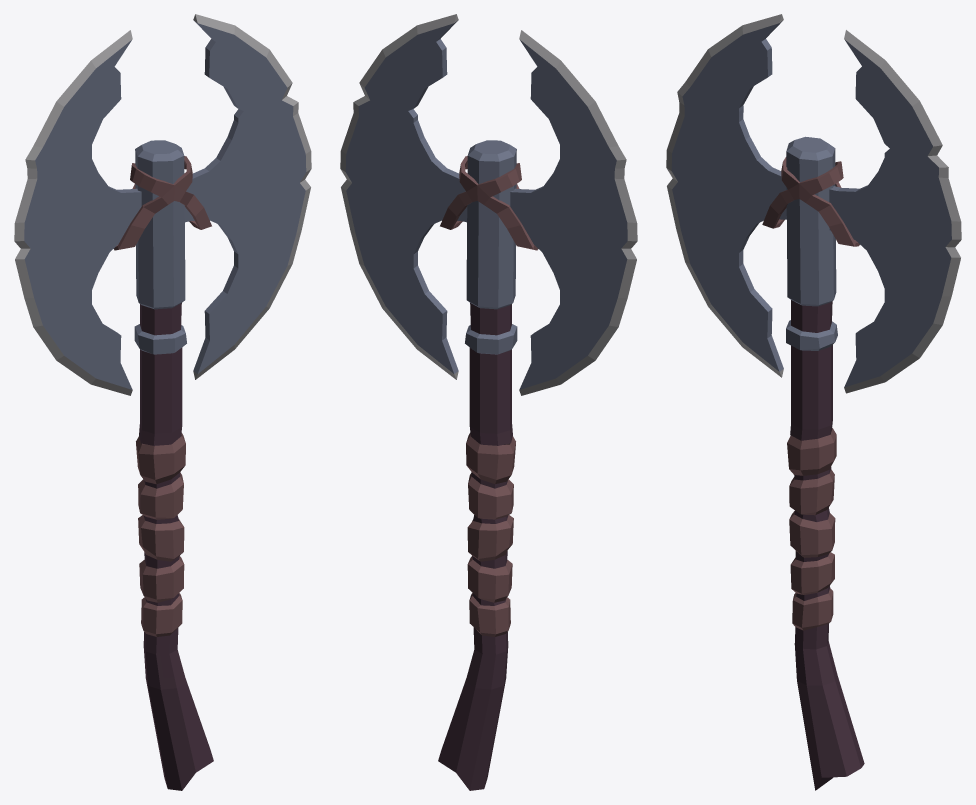
The model's file is axe_double.glb.
The picture shows the model from 3 angles, left to right: view 1: azimuth 30°, elevation 25°; view 2: azimuth 150°, elevation 25°; view 3: azimuth 330°, elevation 25°; orthographic projection.
Visible parts, largest first — view 1: Axe_Double; view 2: Axe_Double; view 3: Axe_Double.
Boxes of the visible parts, bbox=[...] form: Axe_Double: bbox=[14, 14, 311, 790]; Axe_Double: bbox=[340, 14, 637, 790]; Axe_Double: bbox=[666, 14, 961, 790].
Size of the model in its own units: 0.8712 by 2.15 by 0.1355.
